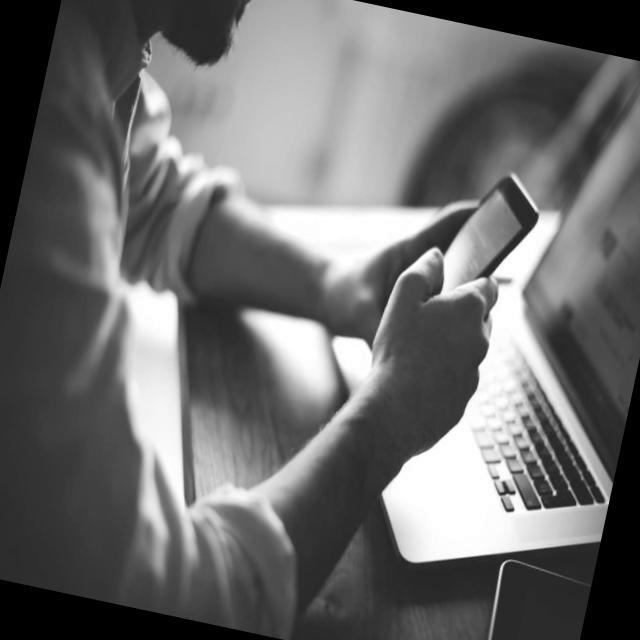phone: (432, 160, 546, 314)
